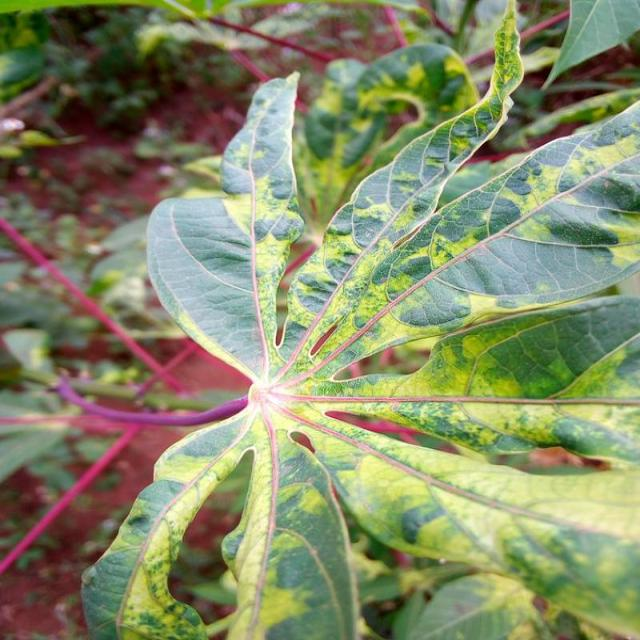cassava leaf: (77, 7, 638, 637)
